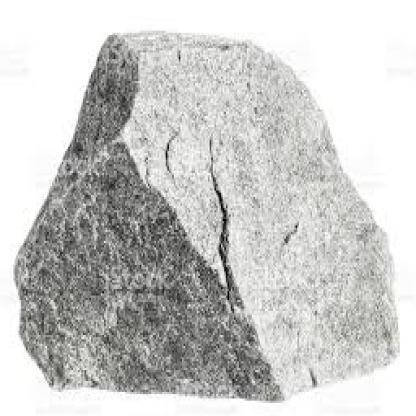Metamorphic_Quartize: (14, 16, 408, 398)
